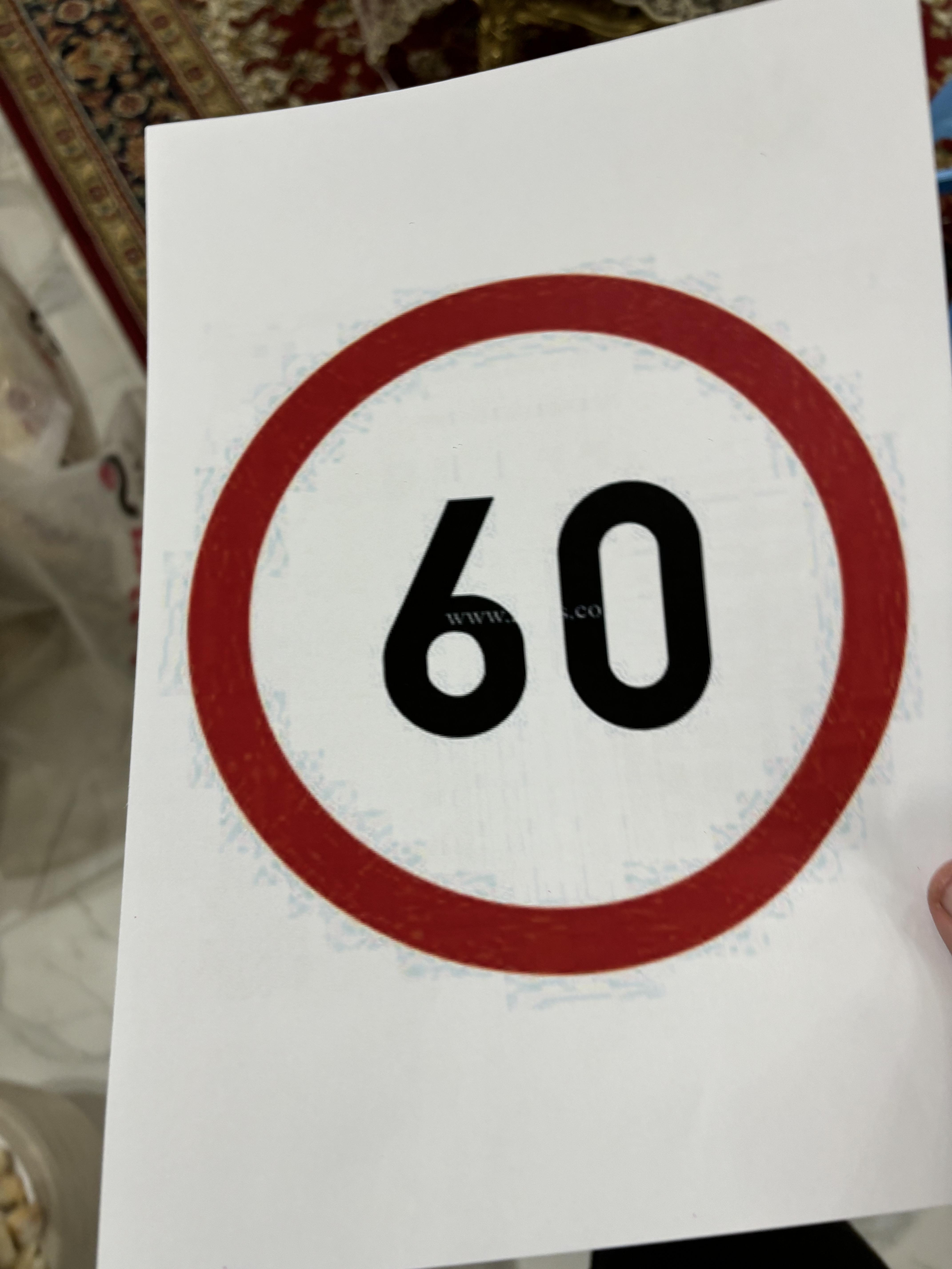60-Speed: (187, 263, 914, 989)
